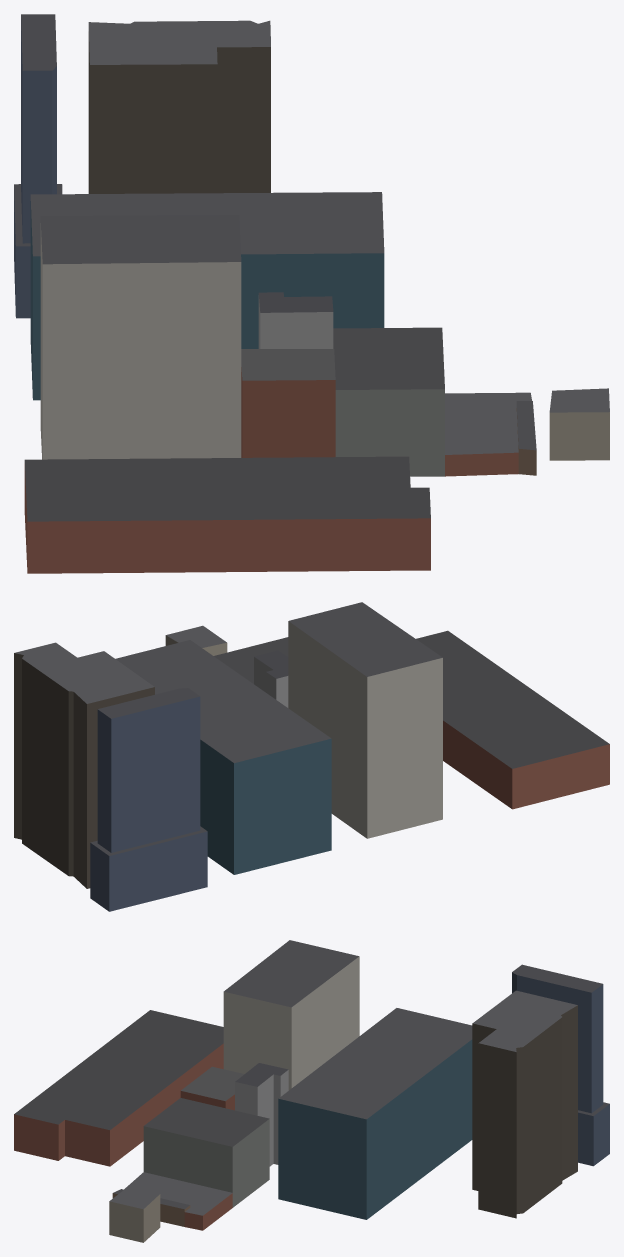
The model's file is -2_5.far.glb.
3 views of the same model, one above another, from view 1: azimuth 30°, elevation 25°; view 2: azimuth 150°, elevation 25°; view 3: azimuth 270°, elevation 25° (orthographic). The views are drawn at different scales.
Visible parts, largest first — view 1: -2_5_far; view 2: -2_5_far; view 3: -2_5_far.
Part boxes in pixels (x1,y1,x2,y2): -2_5_far: (14,14,609,573); -2_5_far: (14,602,609,911); -2_5_far: (14,940,609,1242).
Bounding box in the file's own units: 276 × 112 × 353.
